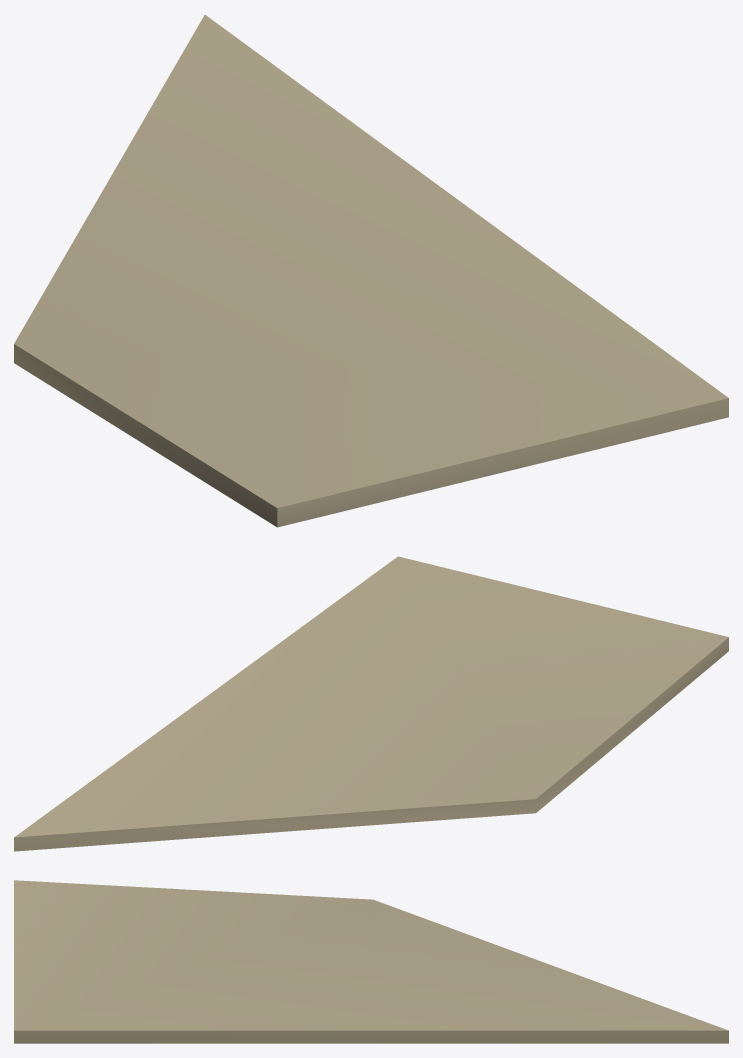
The model's file is breach_wedge_b.glb.
3 views of the same model, one above another, from view 1: azimuth 30°, elevation 25°; view 2: azimuth 150°, elevation 25°; view 3: azimuth 270°, elevation 25° (orthographic). The views are drawn at different scales.
Parts seen in each view (by area): view 1: WedgeB; view 2: WedgeB; view 3: WedgeB.
Part boxes in pixels (x1,y1,x2,y2): WedgeB: (14, 15, 728, 527); WedgeB: (14, 556, 728, 851); WedgeB: (14, 880, 728, 1043).
Bounding box in the file's own units: 2.95 × 0.297 × 5.93.
